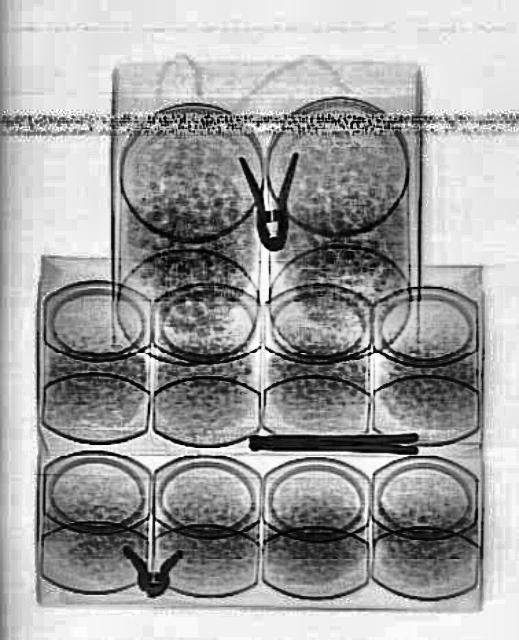Pliers: (238, 150, 302, 252), (248, 431, 416, 451)
